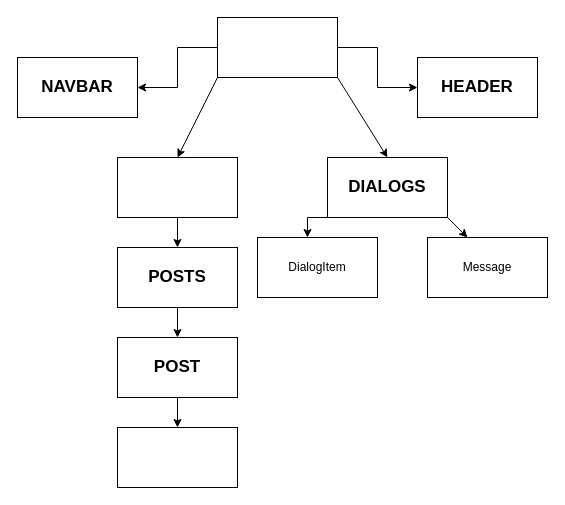
Image size: 565x505. Some labels were removed from this diagram. The shapes that lost their labels are listed below. From the top down, each one's centre as x and y in pixels, then its label:
At (277,47): "APP".
At (177,187): "PROFILE".
At (177,457): "ProfilePhoto".
